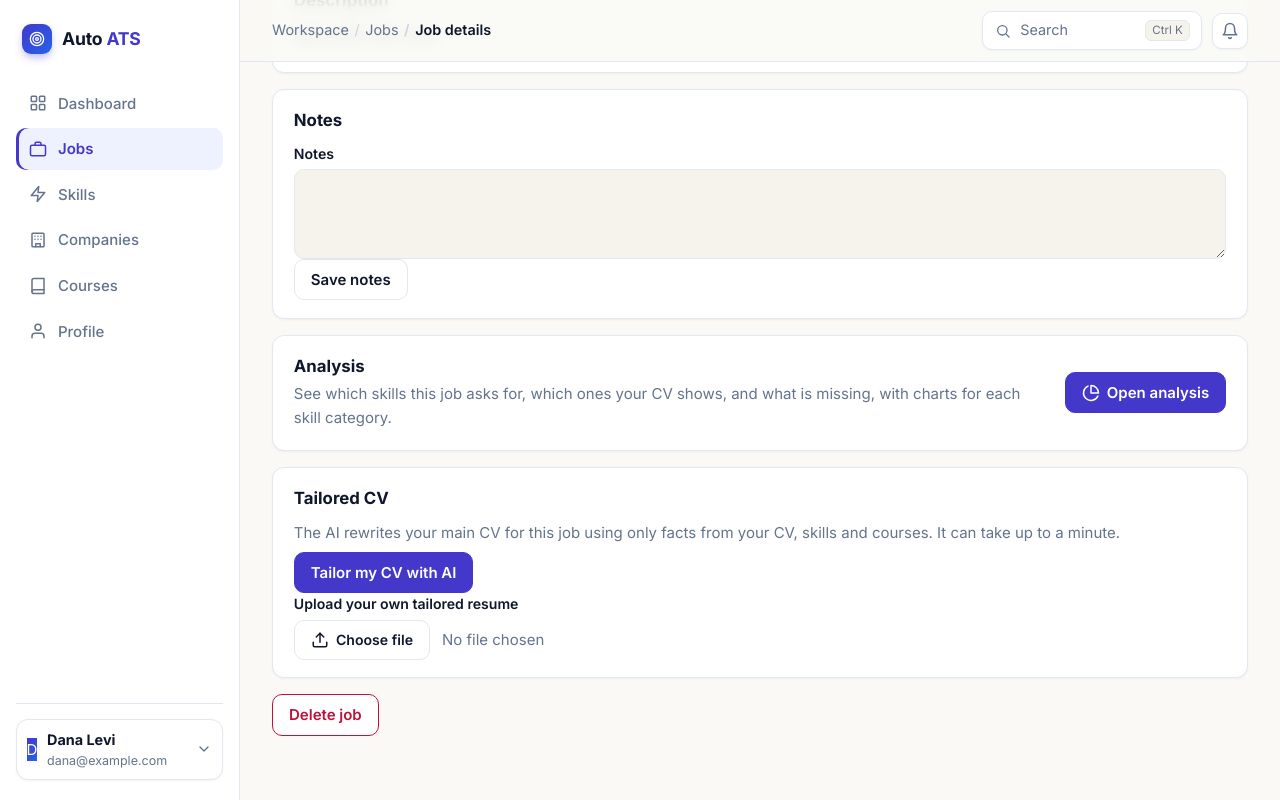
Test: JobDetailPage AI tailoring › GivenTailorResult_WhenFinished_ThenBeforeAfterCoverageAndDownloadAreShown
(page scrolled)
Expected: the button "Download tailored CV" is not shown
Click the button "Tailor my CV with AI".
click(384, 573)  # box [294,552,473,594]
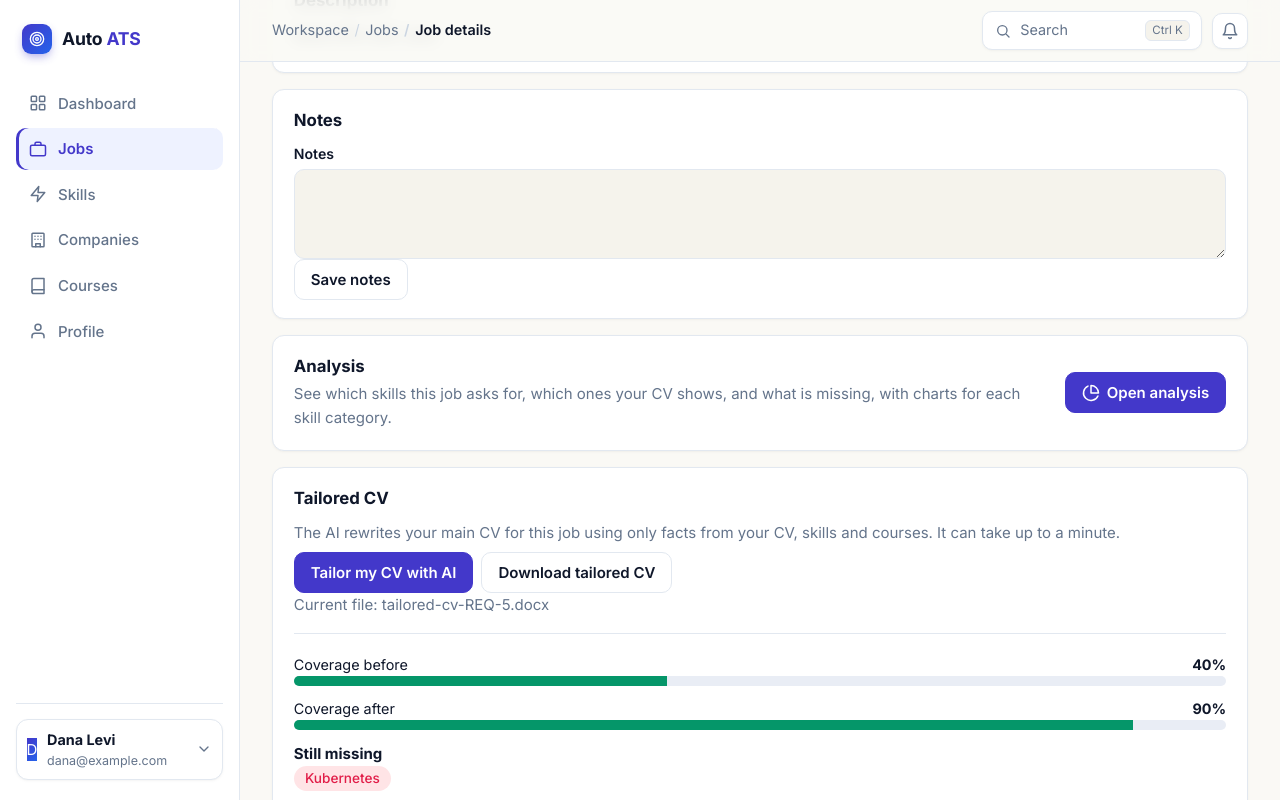
Now the button "Download tailored CV" is shown, box [481,552,672,594]
Now the text "Current file: tailored-cv-REQ-5.docx" is shown, box [294,596,549,614]
